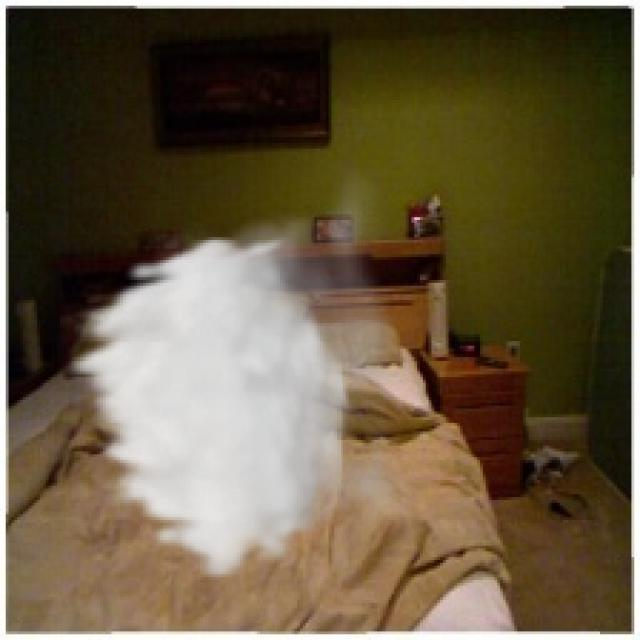smoke: (60, 160, 420, 583)
